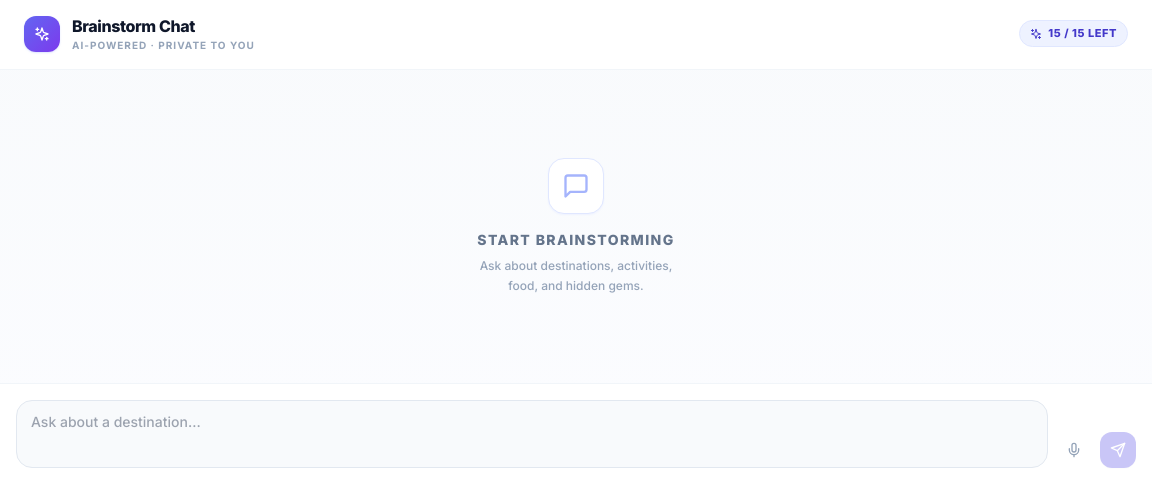
Test: BrainstormChat — sending messages › appends the assistant reply after the server responds
expect the text "Start brainstorming" is shown: met, box [476, 230, 676, 250]
Type "Hello?" into the text box at (532,434), box [16, 400, 1048, 468]
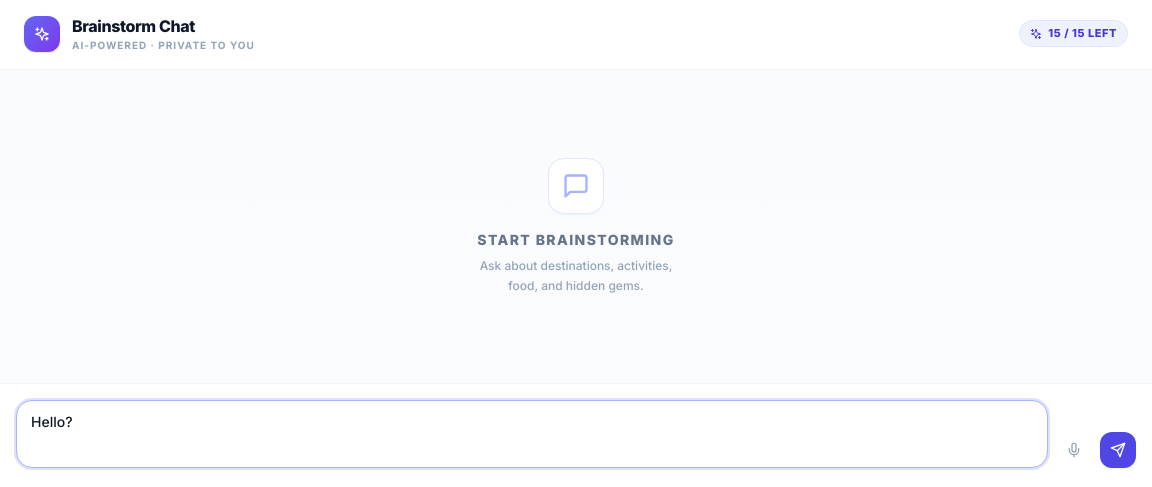
Click the button named "Send message" at (1118,450), box [1100, 432, 1136, 468]
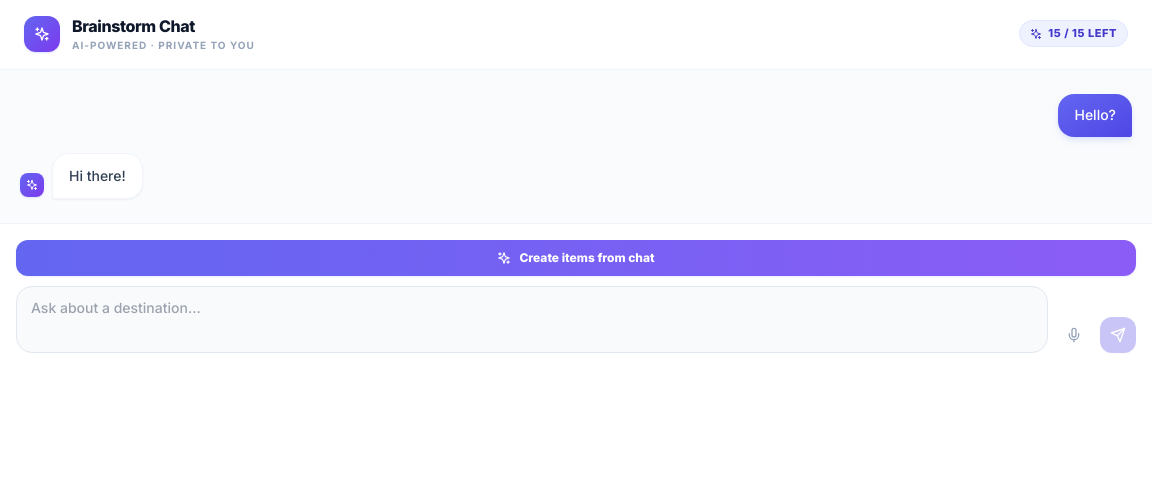
expect the text "Hi there!" is shown: met, box [69, 164, 126, 188]
